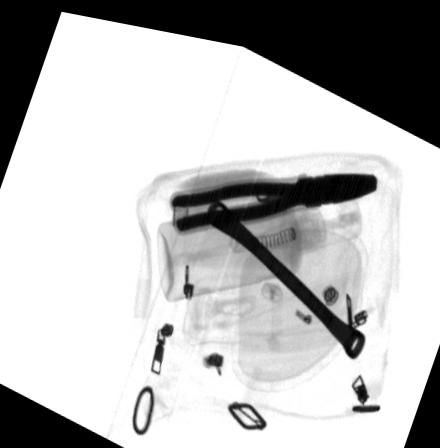Pliers: (171, 161, 378, 226)
Wrench: (204, 192, 363, 347)
